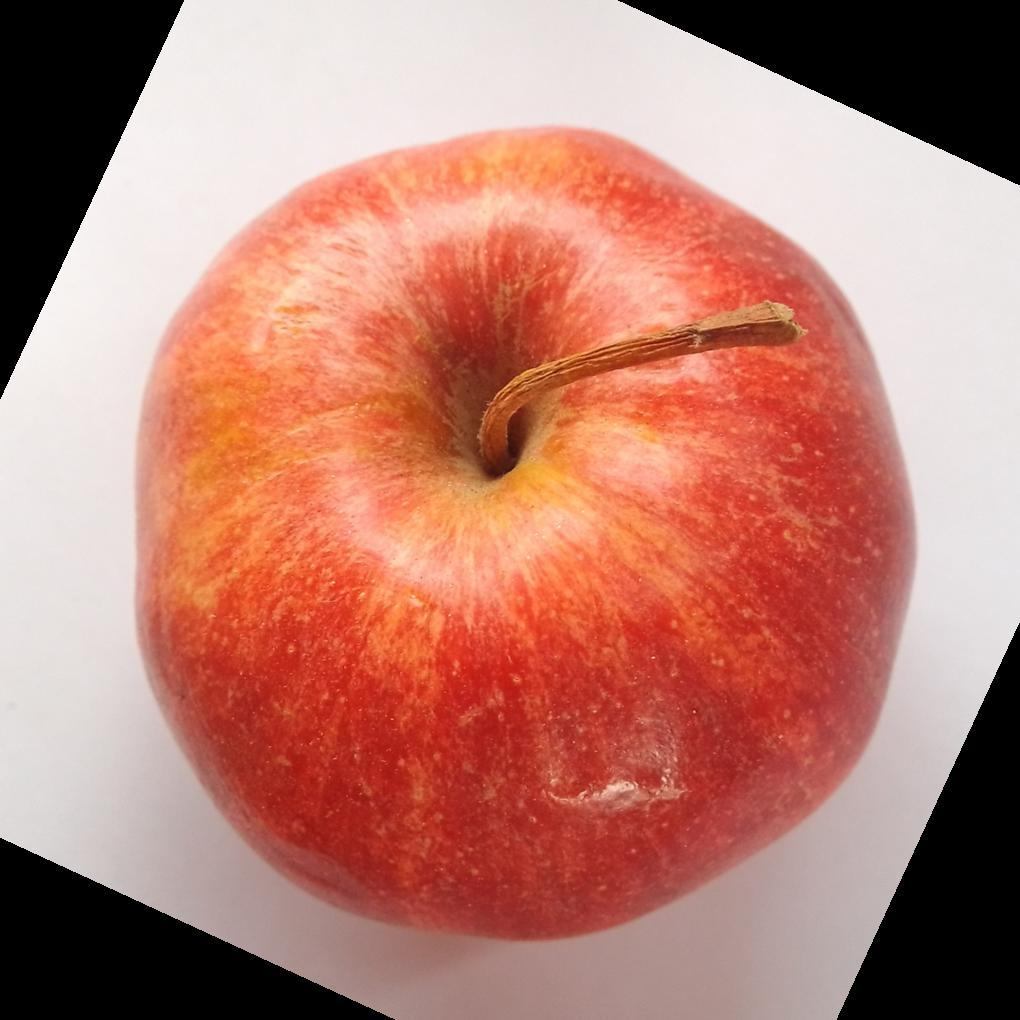FreshGuava: (131, 126, 920, 947)
